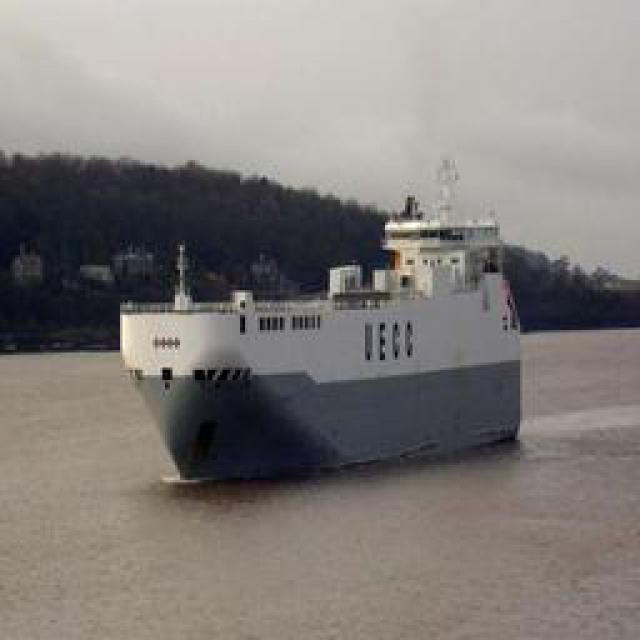Ship: (124, 165, 527, 485)
